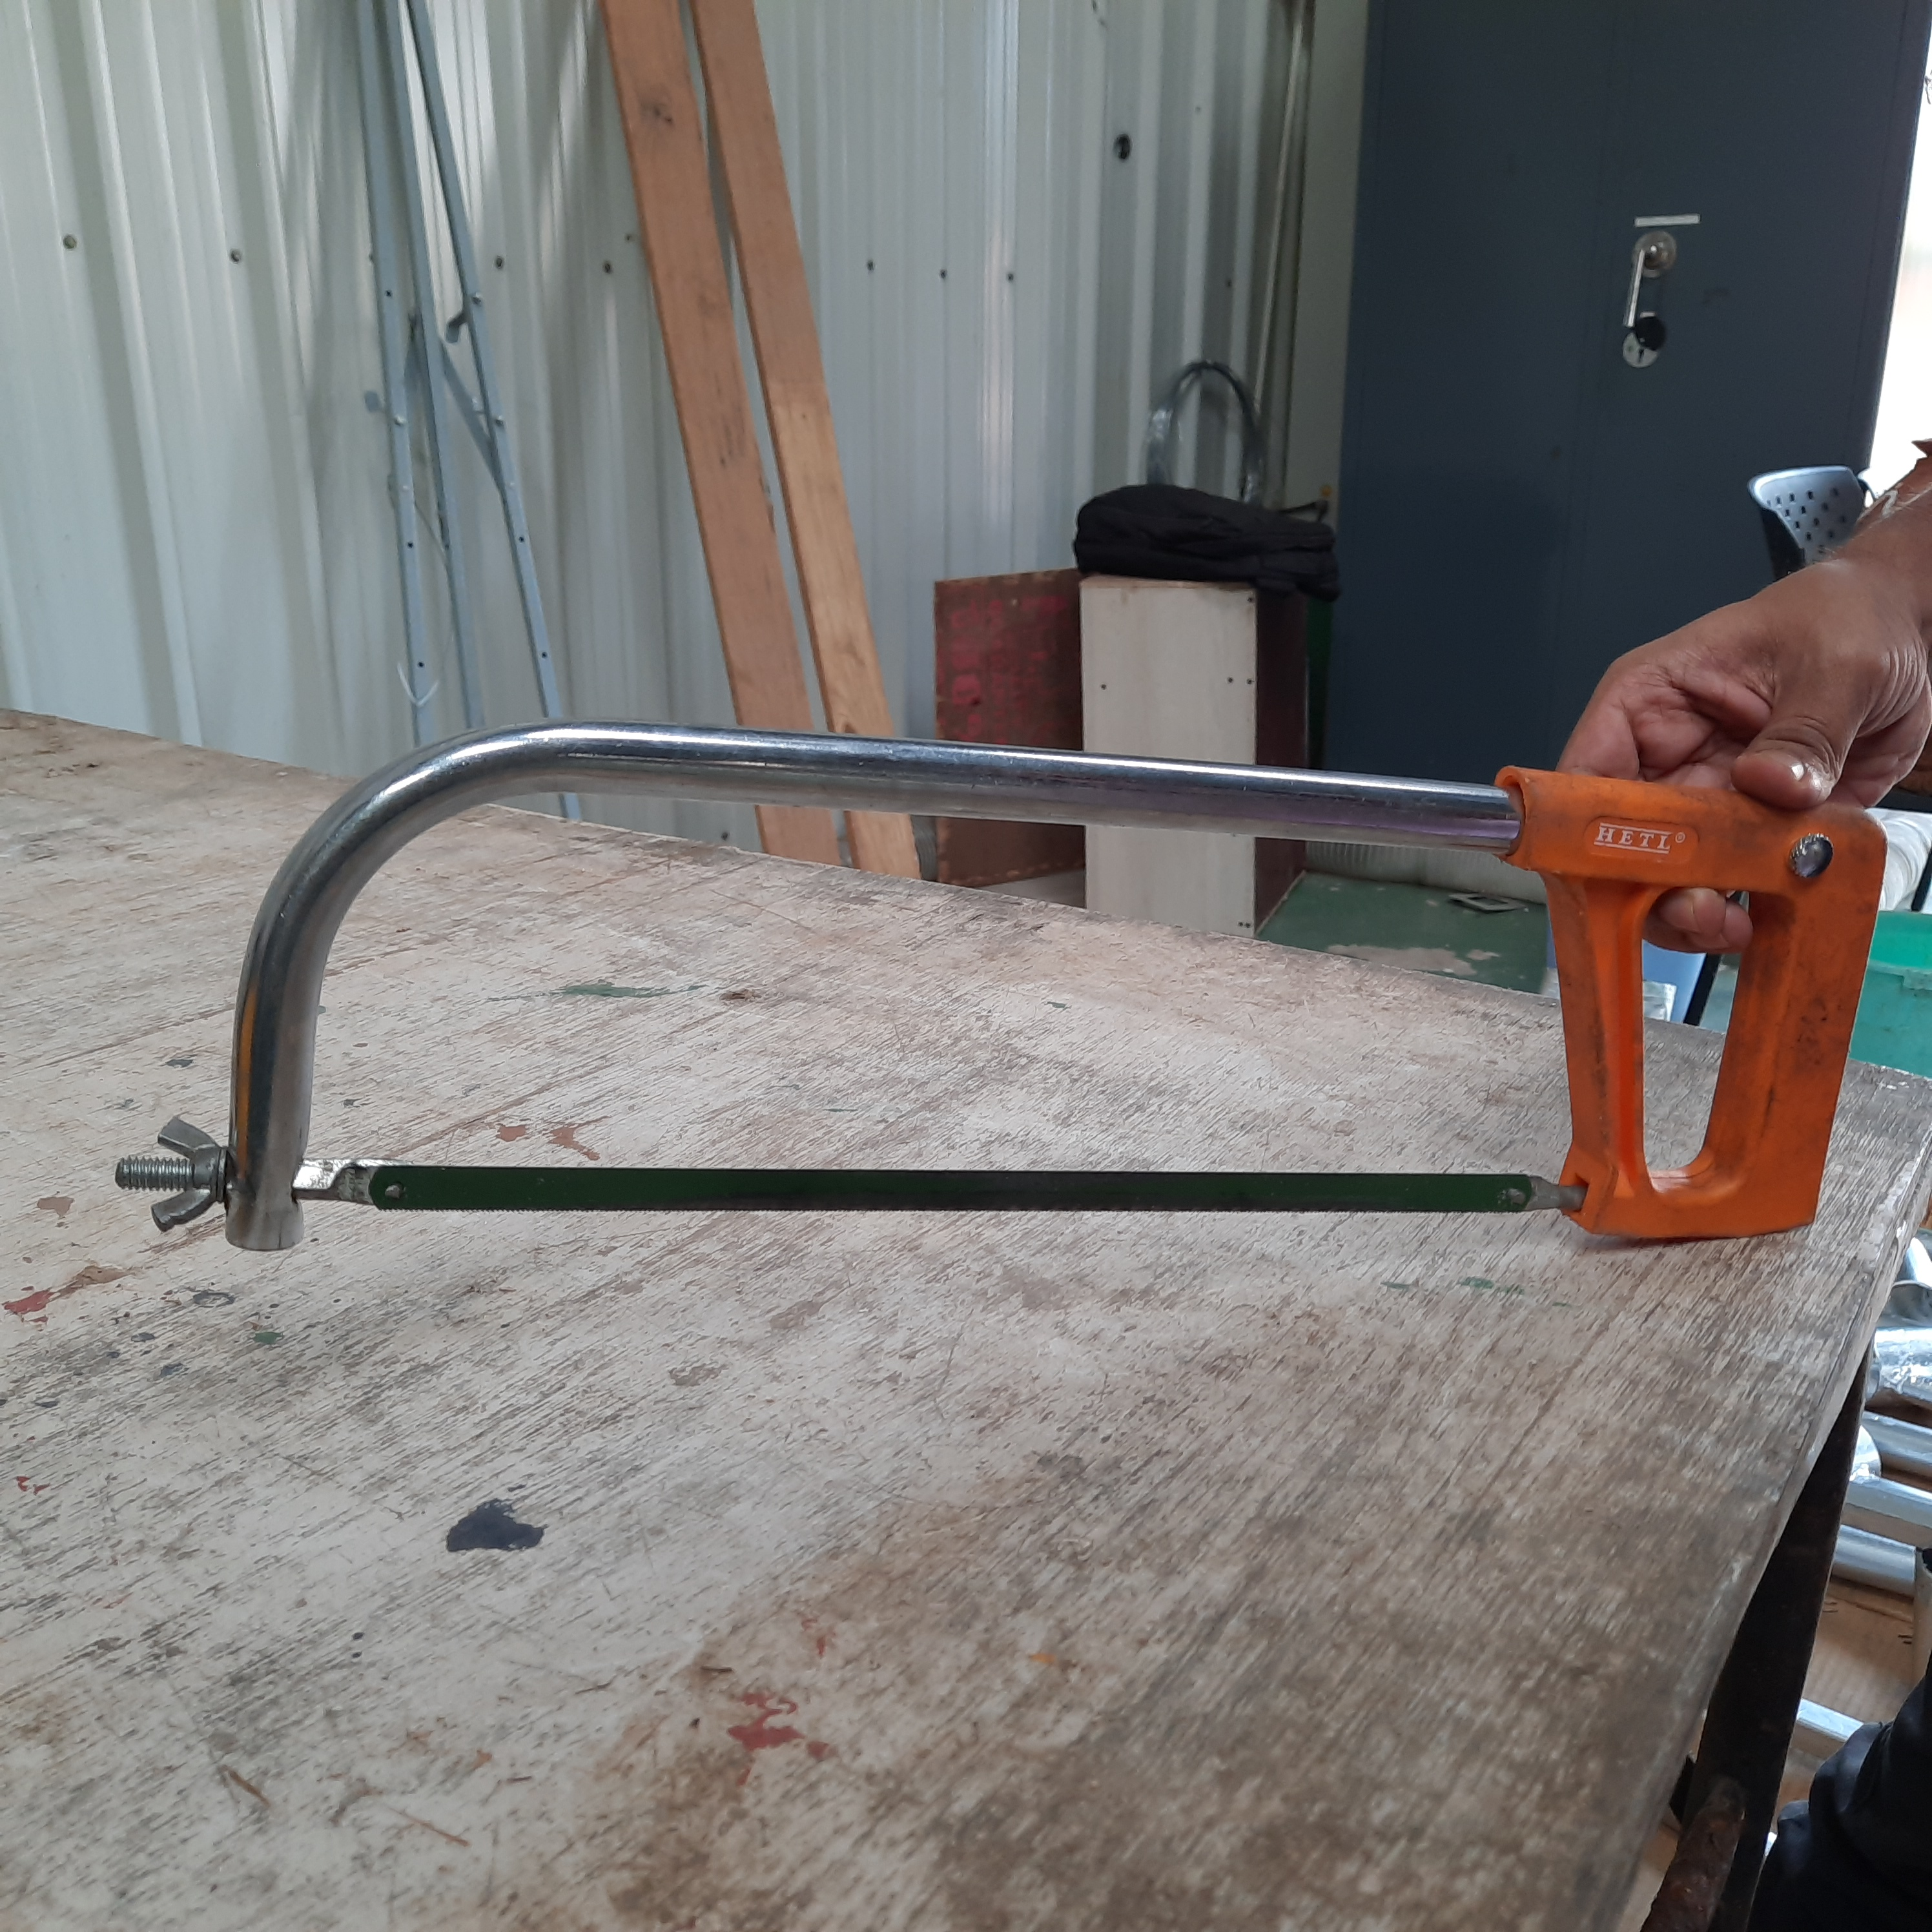Hexaframe: (88, 681, 1861, 1322)
